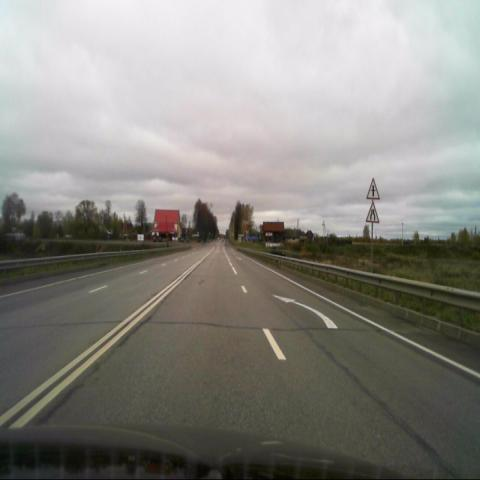1_20: (366, 201, 380, 224)
2_3: (366, 177, 380, 199)
